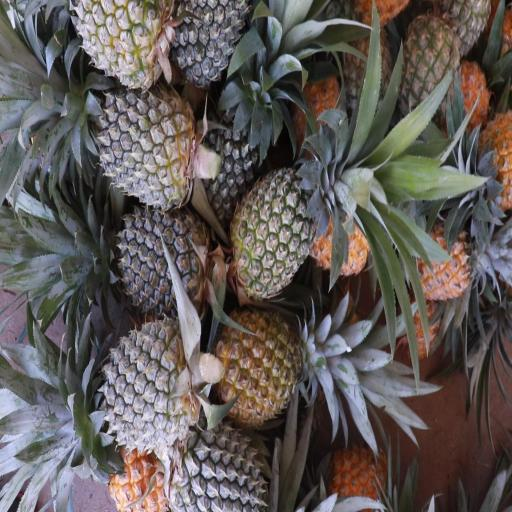------------------------------: (234, 171, 334, 295), (214, 308, 306, 421), (78, 0, 172, 89), (397, 13, 461, 117)
Pineapple - v8 v1: (417, 216, 478, 302), (314, 188, 372, 275)
